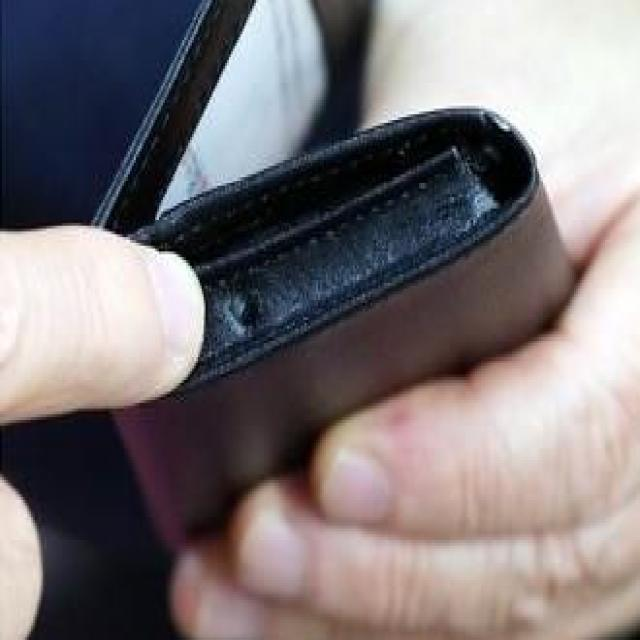hidden camera: (232, 285, 263, 329)
